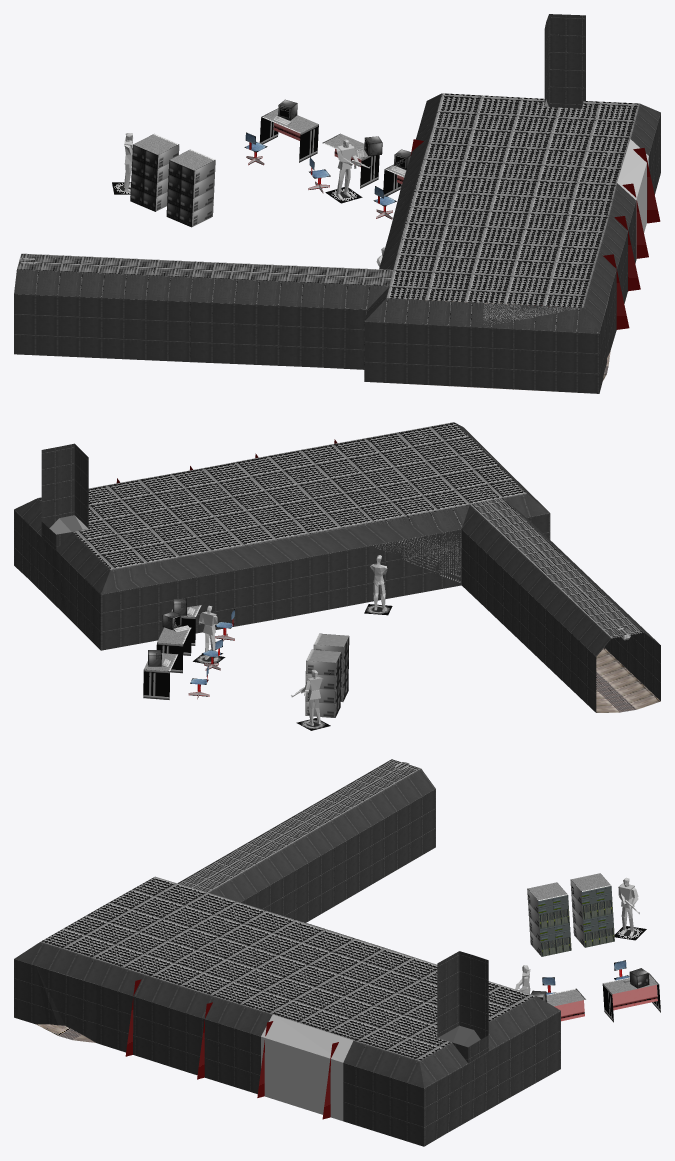
Rendered from dam14.obj.
3 views of the same model, one above another, from view 1: azimuth 30°, elevation 25°; view 2: azimuth 150°, elevation 25°; view 3: azimuth 270°, elevation 25° (orthographic). The views are drawn at different scales.
Visible parts, largest first — view 1: 075_61410439_c.bmp, 069_61410439_c.bmp, 072_1BE3C87_c.bmp, 150_1BE3C87_c.bmp, 090_1BE3C87_c.bmp, 221_1BE3C87_c.bmp, 078_1BE3C87_c.bmp, 222_61410439_c.bmp, 219_61410439_c.bmp, 088_61410439_c.bmp, 152_41C716DF_c.bmp, 159_41C716DF_c.bmp (+7 smaller); view 2: 075_61410439_c.bmp, 072_1BE3C87_c.bmp, 219_61410439_c.bmp, 069_61410439_c.bmp, 150_1BE3C87_c.bmp, 090_1BE3C87_c.bmp, 088_61410439_c.bmp, 148_61410439_c.bmp, 078_1BE3C87_c.bmp, 221_1BE3C87_c.bmp, 222_61410439_c.bmp, 076_2667E92D_c.bmp (+6 smaller); view 3: 219_61410439_c.bmp, 072_1BE3C87_c.bmp, 075_61410439_c.bmp, 069_61410439_c.bmp, 090_1BE3C87_c.bmp, 150_1BE3C87_c.bmp, 088_61410439_c.bmp, 078_1BE3C87_c.bmp, 238_3B6FB66_c.bmp, 221_1BE3C87_c.bmp, 222_61410439_c.bmp, 239_3B6FB66_c.bmp (+3 smaller).
Part boxes in pixels (bbox=[...]): 075_61410439_c.bmp: bbox=[14, 269, 389, 369]; 069_61410439_c.bmp: bbox=[364, 218, 625, 393]; 072_1BE3C87_c.bmp: bbox=[386, 218, 606, 307]; 150_1BE3C87_c.bmp: bbox=[419, 129, 630, 182]; 090_1BE3C87_c.bmp: bbox=[406, 173, 616, 222]; 221_1BE3C87_c.bmp: bbox=[432, 93, 639, 138]; 078_1BE3C87_c.bmp: bbox=[17, 253, 393, 286]; 222_61410439_c.bmp: bbox=[544, 14, 585, 104]; 219_61410439_c.bmp: bbox=[416, 91, 660, 194]; 088_61410439_c.bmp: bbox=[389, 174, 636, 298]; 152_41C716DF_c.bmp: bbox=[166, 160, 194, 227]; 159_41C716DF_c.bmp: bbox=[130, 144, 158, 211]; 075_61410439_c.bmp: bbox=[461, 500, 660, 712]; 072_1BE3C87_c.bmp: bbox=[281, 422, 526, 523]; 219_61410439_c.bmp: bbox=[14, 498, 191, 650]; 069_61410439_c.bmp: bbox=[365, 422, 550, 601]; 150_1BE3C87_c.bmp: bbox=[110, 468, 273, 556]; 090_1BE3C87_c.bmp: bbox=[200, 453, 364, 540]; 088_61410439_c.bmp: bbox=[274, 524, 370, 618]; 148_61410439_c.bmp: bbox=[184, 540, 281, 633]; 078_1BE3C87_c.bmp: bbox=[470, 498, 643, 638]; 221_1BE3C87_c.bmp: bbox=[38, 484, 183, 569]; 222_61410439_c.bmp: bbox=[41, 443, 88, 528]; 076_2667E92D_c.bmp: bbox=[596, 648, 660, 712]; 219_61410439_c.bmp: bbox=[343, 996, 560, 1146]; 072_1BE3C87_c.bmp: bbox=[41, 876, 304, 991]; 075_61410439_c.bmp: bbox=[208, 768, 435, 922]; 069_61410439_c.bmp: bbox=[14, 887, 197, 1071]; 090_1BE3C87_c.bmp: bbox=[198, 922, 386, 1014]; 150_1BE3C87_c.bmp: bbox=[273, 948, 437, 1040]; 088_61410439_c.bmp: bbox=[187, 991, 272, 1094]; 078_1BE3C87_c.bmp: bbox=[177, 759, 420, 892]; 238_3B6FB66_c.bmp: bbox=[261, 1037, 343, 1120]; 221_1BE3C87_c.bmp: bbox=[354, 981, 535, 1060]; 222_61410439_c.bmp: bbox=[437, 951, 488, 1037]; 239_3B6FB66_c.bmp: bbox=[261, 1014, 353, 1062].
Bounding box in the file's own units: 0.4383 × 0.1051 × 0.3768.
